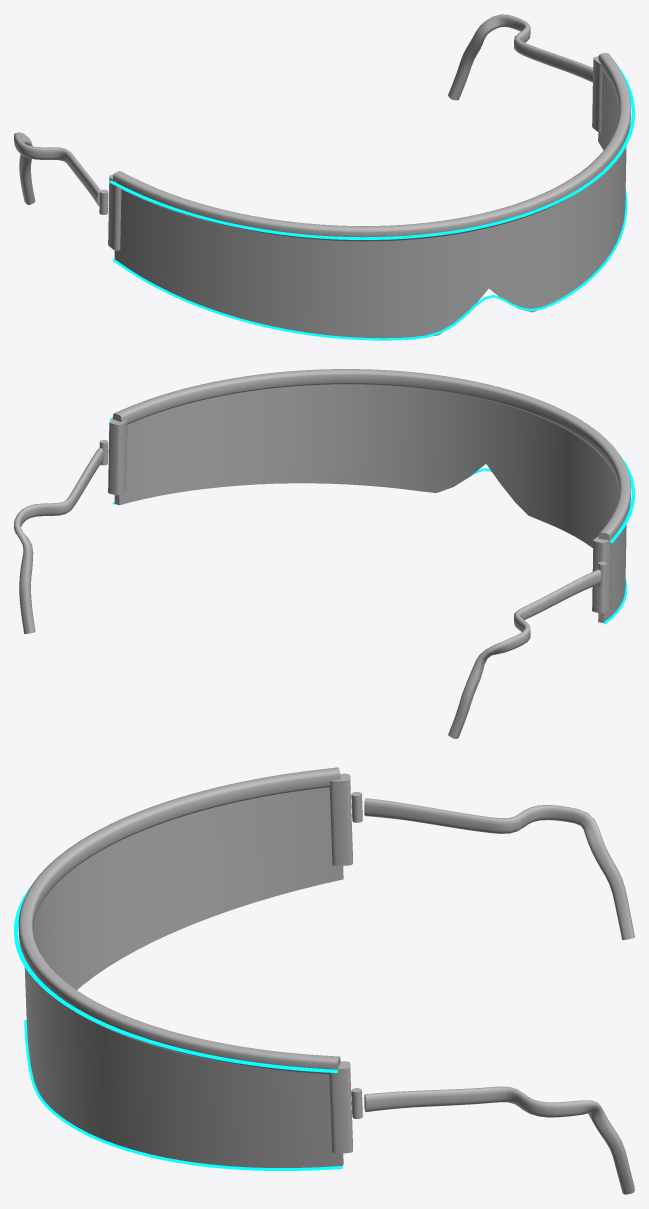
The model's file is kael_cyber_visor.fbx.
The picture shows the model from 3 angles, top to bottom: view 1: azimuth 30°, elevation 25°; view 2: azimuth 150°, elevation 25°; view 3: azimuth 270°, elevation 25°; orthographic projection. The views are drawn at different scales.
Parts seen in each view (by area): view 1: kael_cyber_visor; view 2: kael_cyber_visor; view 3: kael_cyber_visor.
Part boxes in pixels (x1,y1,x2,y2): kael_cyber_visor: (14,14,634,340); kael_cyber_visor: (14,369,634,738); kael_cyber_visor: (14,767,634,1194).
Bounding box in the file's own units: 0.1742 × 0.0413 × 0.152.
